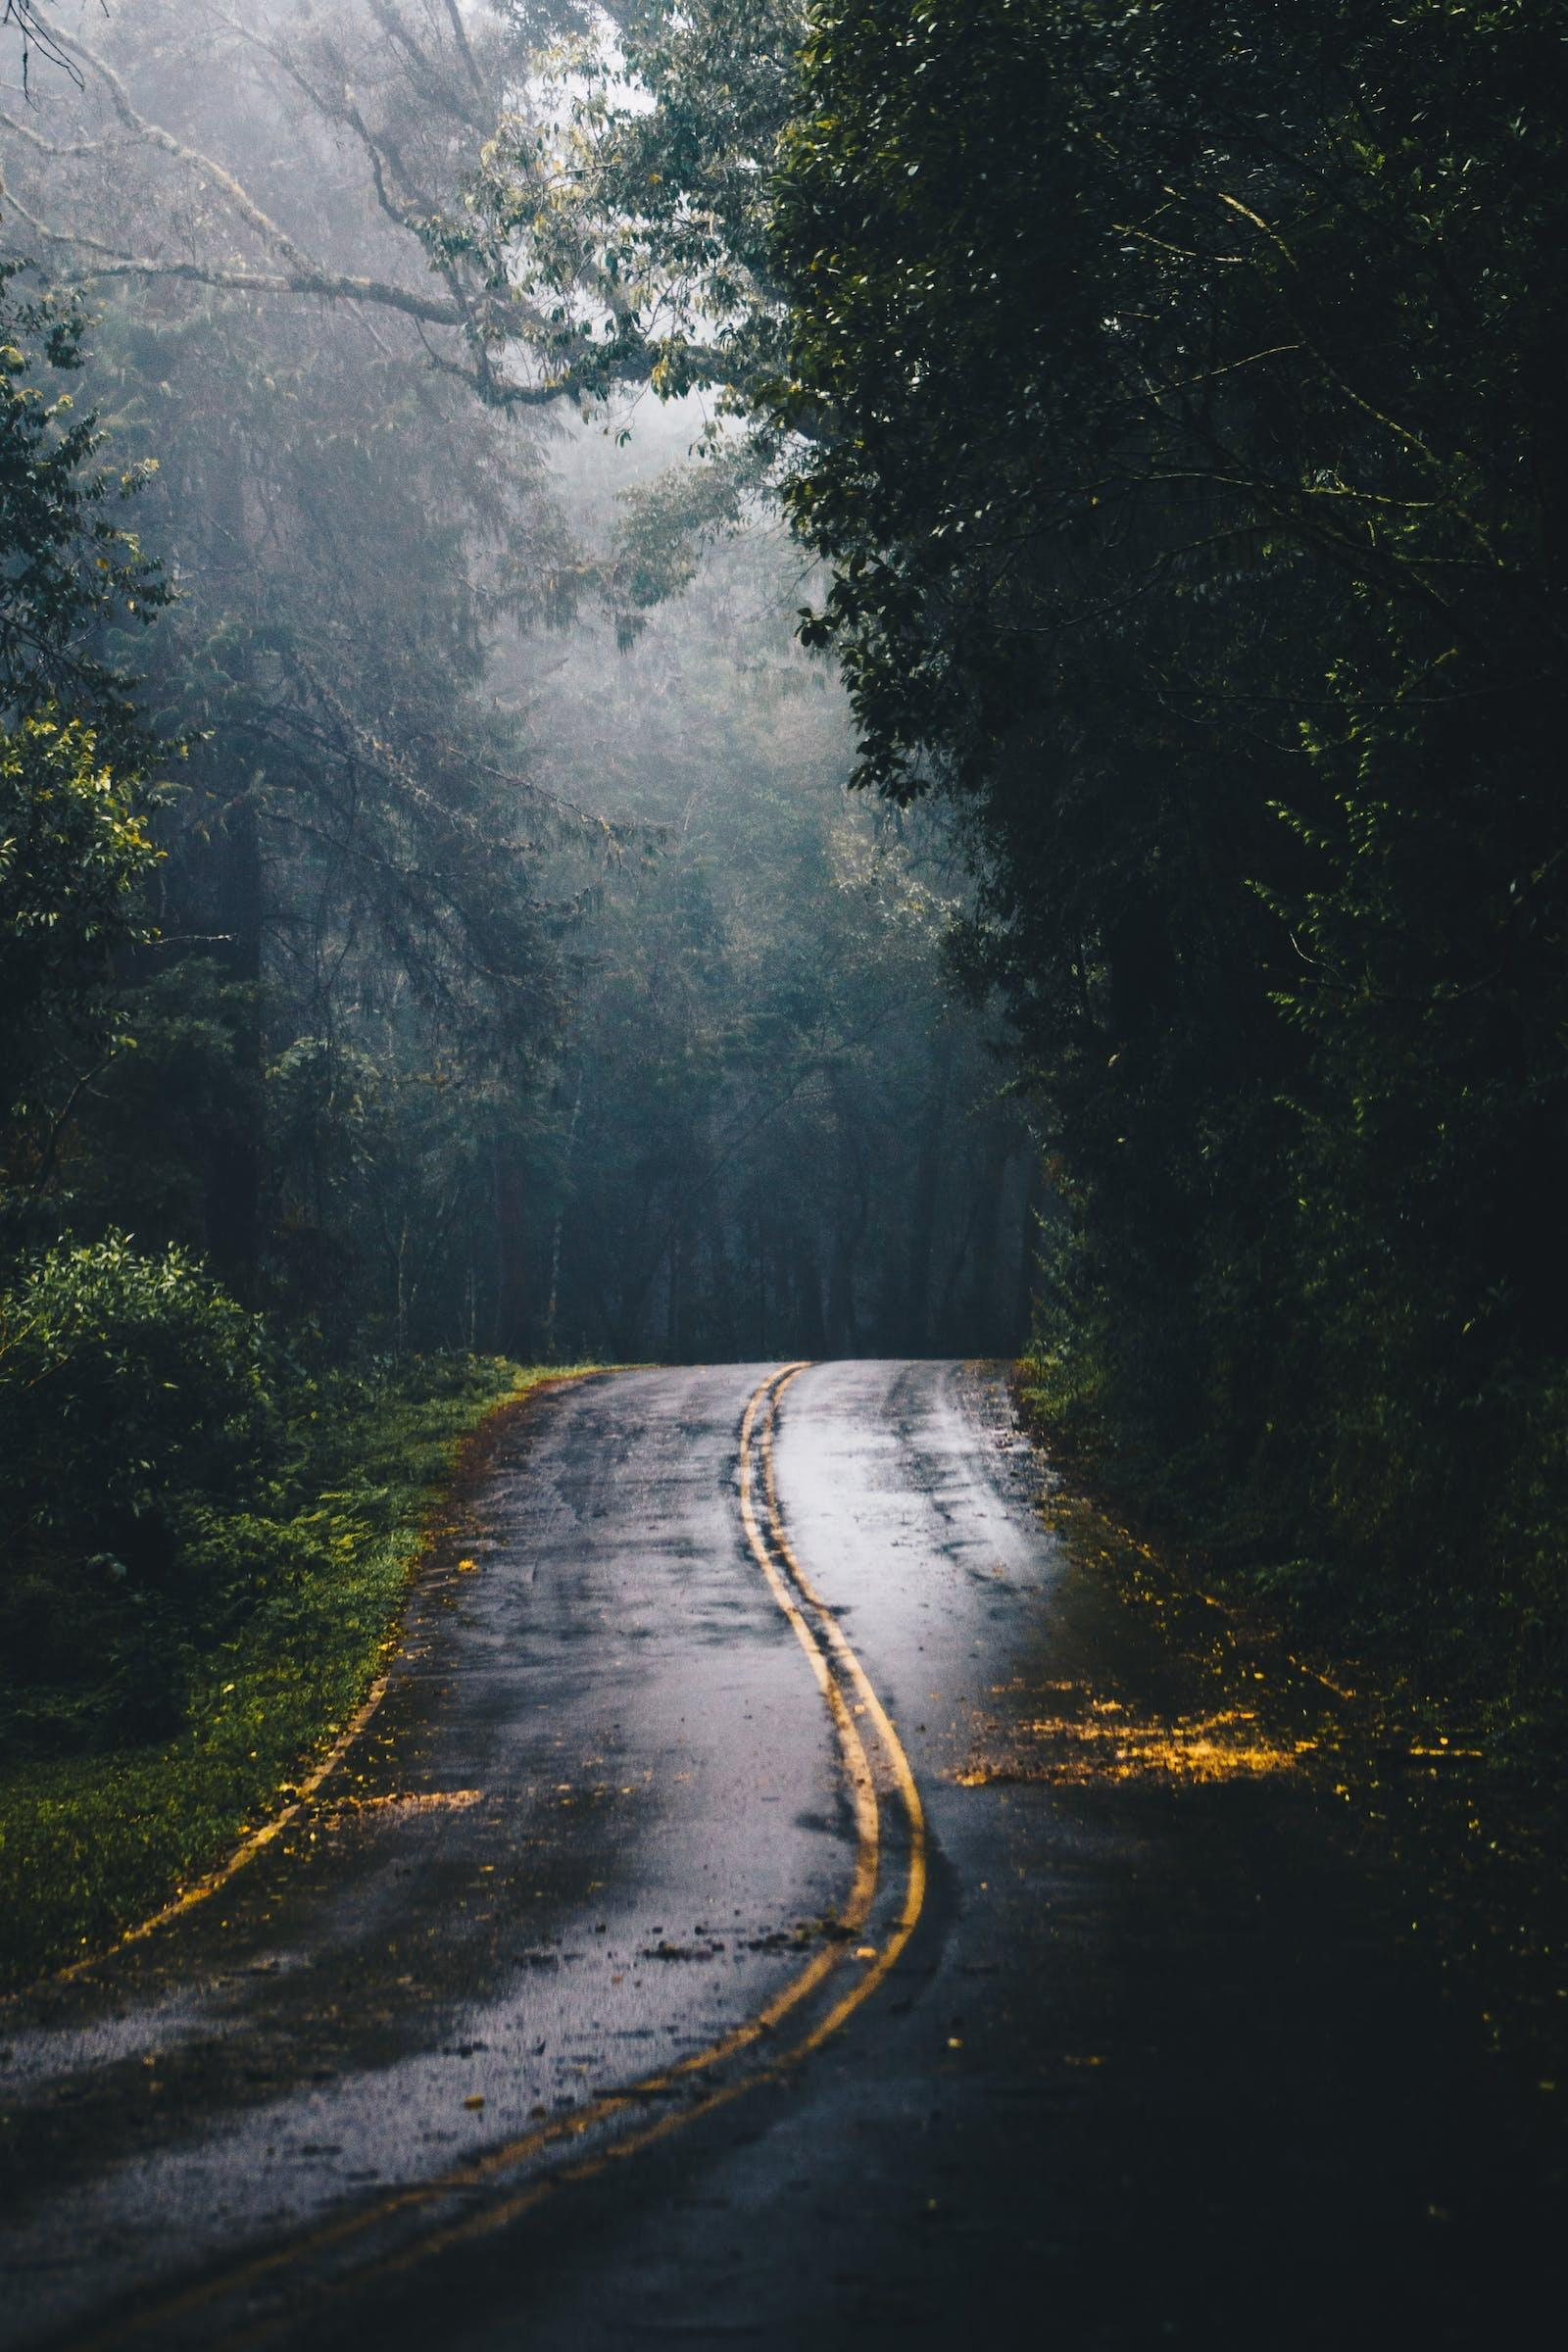road: (5, 1362, 1561, 2350)
